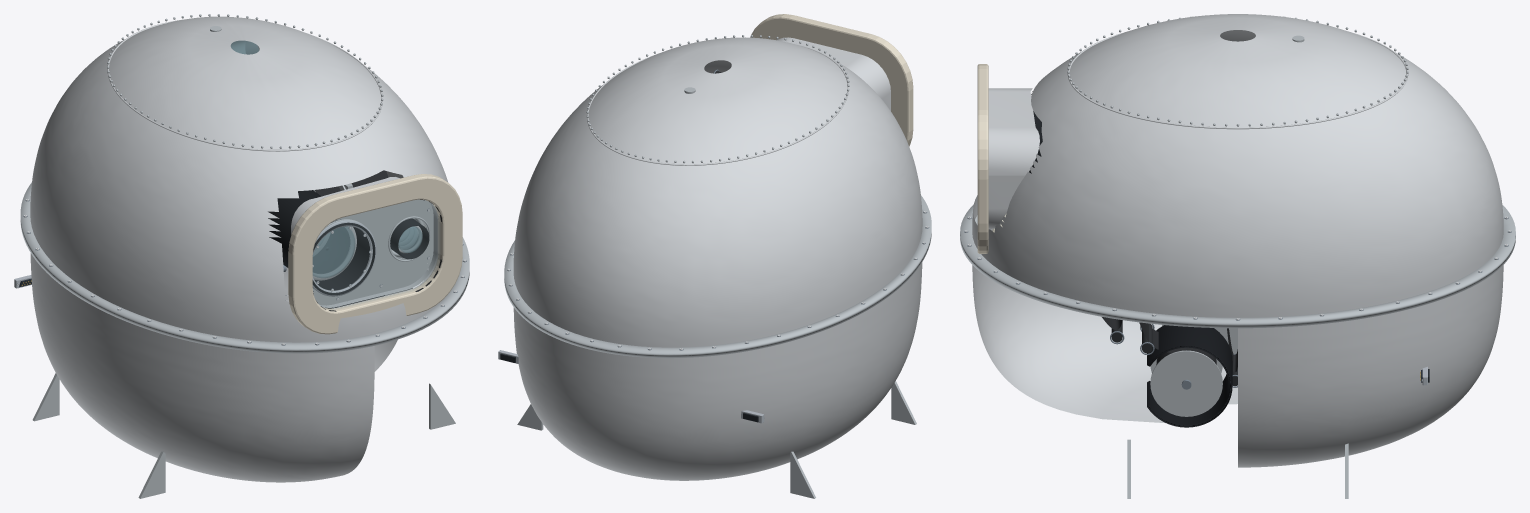
Rendered from orbiter-camera.glb.
3 views of the same model, side by side, from view 1: azimuth 30°, elevation 25°; view 2: azimuth 150°, elevation 25°; view 3: azimuth 270°, elevation 25° (orthographic). The views are drawn at different scales.
Visible parts, largest first — view 1: PHOTOGRAPHIC_UPPER_SHELL_LO1_polished_photographic_vessel_al, PHOTOGRAPHIC_FIXED_SHELL_LO1_polished_photographic_vessel_al, PHOTOGRAPHIC_WINDOW_LO1_white_padded_window_bezel_coating, WINDOW_GLASS_LO1_fused_quartz_camera_window_glass, PHOTOGRAPHIC_FRONT_SEAL_RING_LO1_machined_aluminium_structur, WINDOW_LENS_FACE_PLATE_LO1_satin_aluminium_lens_face_plate (×2), HIGH_RESOLUTION_LENS_BARREL_LO1_black_anodized_lens_barrel, PHOTOGRAPHIC_BAY_LO1_machined_aluminium_structure, HIGH_RESOLUTION_LENS_LENS_GROUP_0_LO1_optical_glass_element, PHOTOGRAPHIC_COVER_SEAM_BAND_LO1_polished_photographic_vesse, PHOTOGRAPHIC_WINDOW_LO1_polished_photographic_vessel_alumini, BORED_FLANGE_4_Machined_aluminium (+4 smaller); view 2: PHOTOGRAPHIC_UPPER_SHELL_LO1_polished_photographic_vessel_al, PHOTOGRAPHIC_FIXED_SHELL_LO1_polished_photographic_vessel_al, PHOTOGRAPHIC_FRONT_SEAL_RING_LO1_machined_aluminium_structur, PHOTOGRAPHIC_WINDOW_LO1_white_padded_window_bezel_coating, PHOTOGRAPHIC_BAY_LO1_machined_aluminium_structure, PHOTOGRAPHIC_WINDOW_LO1_polished_photographic_vessel_alumini, PHOTOGRAPHIC_COVER_SEAM_BAND_LO1_polished_photographic_vesse, PHOTOGRAPHIC_COVER_SEAM_LO1_machined_aluminium_structure; view 3: PHOTOGRAPHIC_UPPER_SHELL_LO1_polished_photographic_vessel_al, PHOTOGRAPHIC_FIXED_SHELL_LO1_polished_photographic_vessel_al, PHOTOGRAPHIC_FRONT_SEAL_RING_LO1_machined_aluminium_structur, PHOTOGRAPHIC_WINDOW_LO1_polished_photographic_vessel_alumini, FILM_SUPPLY_SPOOL_LO1_machined_aluminium_structure, FILM_SUPPLY_SPOOL_RADIATION_SHIELD_LO1_black_anodized_enclos, PHOTOGRAPHIC_WINDOW_LO1_white_padded_window_bezel_coating, PHOTOGRAPHIC_COVER_SEAM_BAND_LO1_polished_photographic_vesse, PHOTOGRAPHIC_COVER_SEAM_LO1_machined_aluminium_structure, FILM_TRANSPORT_LO1_SO-243_film_web.
Part boxes in pixels (x1=…): PHOTOGRAPHIC_UPPER_SHELL_LO1_polished_photographic_vessel_al: x1=30, y1=16, x2=448, y2=342; PHOTOGRAPHIC_FIXED_SHELL_LO1_polished_photographic_vessel_al: x1=30, y1=188, x2=412, y2=482; PHOTOGRAPHIC_WINDOW_LO1_white_padded_window_bezel_coating: x1=288, y1=174, x2=462, y2=334; WINDOW_GLASS_LO1_fused_quartz_camera_window_glass: x1=313, y1=200, x2=439, y2=309; PHOTOGRAPHIC_FRONT_SEAL_RING_LO1_machined_aluminium_structur: x1=20, y1=182, x2=469, y2=353; WINDOW_LENS_FACE_PLATE_LO1_satin_aluminium_lens_face_plate (×2): x1=313, y1=199, x2=436, y2=307; HIGH_RESOLUTION_LENS_BARREL_LO1_black_anodized_lens_barrel: x1=268, y1=190, x2=375, y2=295; PHOTOGRAPHIC_BAY_LO1_machined_aluminium_structure: x1=32, y1=26, x2=455, y2=498; HIGH_RESOLUTION_LENS_LENS_GROUP_0_LO1_optical_glass_element: x1=312, y1=226, x2=355, y2=278; PHOTOGRAPHIC_COVER_SEAM_BAND_LO1_polished_photographic_vesse: x1=107, y1=20, x2=382, y2=151; PHOTOGRAPHIC_WINDOW_LO1_polished_photographic_vessel_alumini: x1=291, y1=177, x2=438, y2=308; BORED_FLANGE_4_Machined_aluminium: x1=312, y1=220, x2=376, y2=296; PHOTOGRAPHIC_UPPER_SHELL_LO1_polished_photographic_vessel_al: x1=513, y1=37, x2=922, y2=347; PHOTOGRAPHIC_FIXED_SHELL_LO1_polished_photographic_vessel_al: x1=513, y1=262, x2=922, y2=480; PHOTOGRAPHIC_FRONT_SEAL_RING_LO1_machined_aluminium_structur: x1=504, y1=195, x2=931, y2=358; PHOTOGRAPHIC_WINDOW_LO1_white_padded_window_bezel_coating: x1=750, y1=14, x2=913, y2=146; PHOTOGRAPHIC_BAY_LO1_machined_aluminium_structure: x1=517, y1=87, x2=916, y2=498; PHOTOGRAPHIC_WINDOW_LO1_polished_photographic_vessel_alumini: x1=777, y1=37, x2=890, y2=110; PHOTOGRAPHIC_COVER_SEAM_BAND_LO1_polished_photographic_vesse: x1=587, y1=40, x2=848, y2=165; PHOTOGRAPHIC_COVER_SEAM_LO1_machined_aluminium_structure: x1=586, y1=35, x2=849, y2=163; PHOTOGRAPHIC_UPPER_SHELL_LO1_polished_photographic_vessel_al: x1=972, y1=14, x2=1503, y2=317; PHOTOGRAPHIC_FIXED_SHELL_LO1_polished_photographic_vessel_al: x1=972, y1=228, x2=1503, y2=467; PHOTOGRAPHIC_FRONT_SEAL_RING_LO1_machined_aluminium_structur: x1=960, y1=205, x2=1515, y2=328; PHOTOGRAPHIC_WINDOW_LO1_polished_photographic_vessel_alumini: x1=988, y1=88, x2=1039, y2=229; FILM_SUPPLY_SPOOL_LO1_machined_aluminium_structure: x1=1150, y1=350, x2=1222, y2=416; FILM_SUPPLY_SPOOL_RADIATION_SHIELD_LO1_black_anodized_enclos: x1=1147, y1=325, x2=1232, y2=427; PHOTOGRAPHIC_WINDOW_LO1_white_padded_window_bezel_coating: x1=977, y1=64, x2=988, y2=253; PHOTOGRAPHIC_COVER_SEAM_BAND_LO1_polished_photographic_vesse: x1=1067, y1=32, x2=1408, y2=129; PHOTOGRAPHIC_COVER_SEAM_LO1_machined_aluminium_structure: x1=1067, y1=16, x2=1408, y2=126; FILM_TRANSPORT_LO1_SO-243_film_web: x1=1102, y1=317, x2=1237, y2=372.
Size of the model in its own units: 0.7029 by 0.709 by 0.92.
